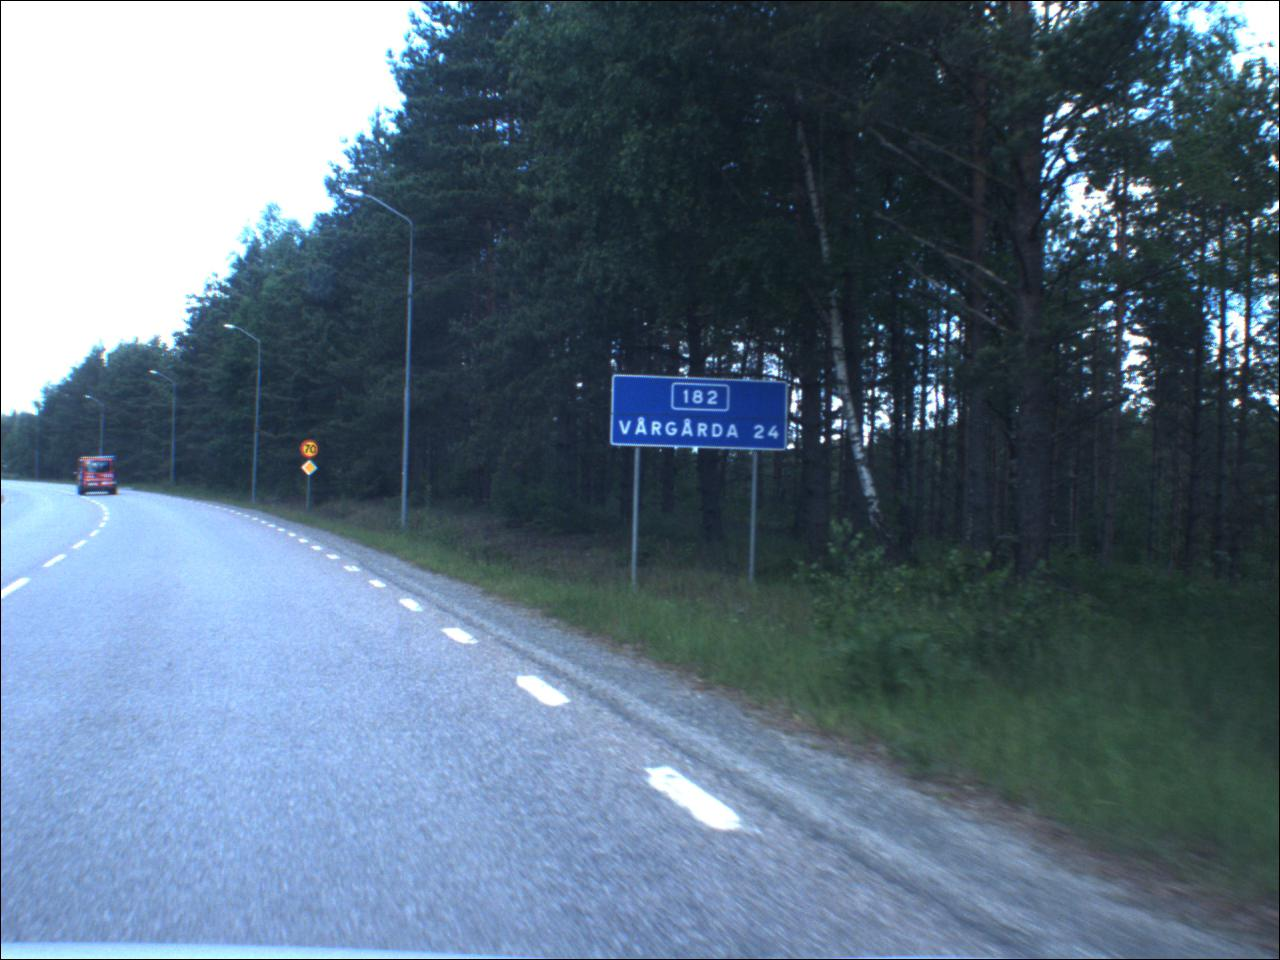70_SIGN: (301, 441, 322, 462)
PRIORITY_ROAD: (303, 461, 321, 479)
